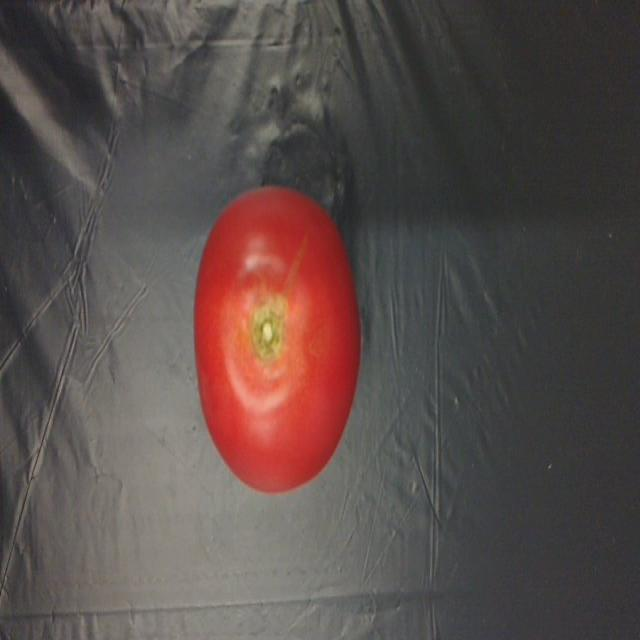kirmizi: (197, 174, 366, 492)
